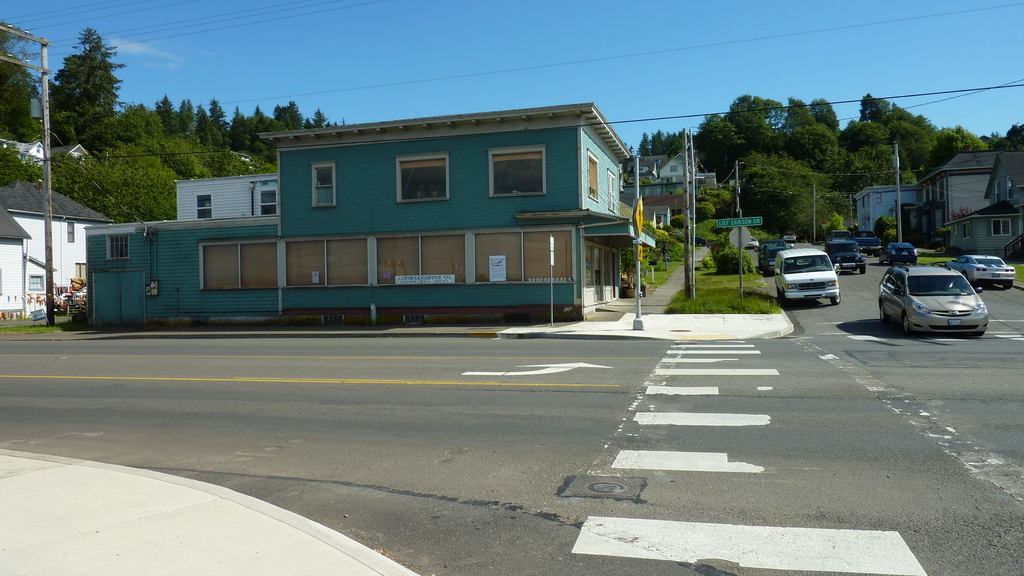Car: (944, 254, 1016, 288), (876, 241, 918, 264), (759, 247, 788, 277), (744, 237, 758, 252)
